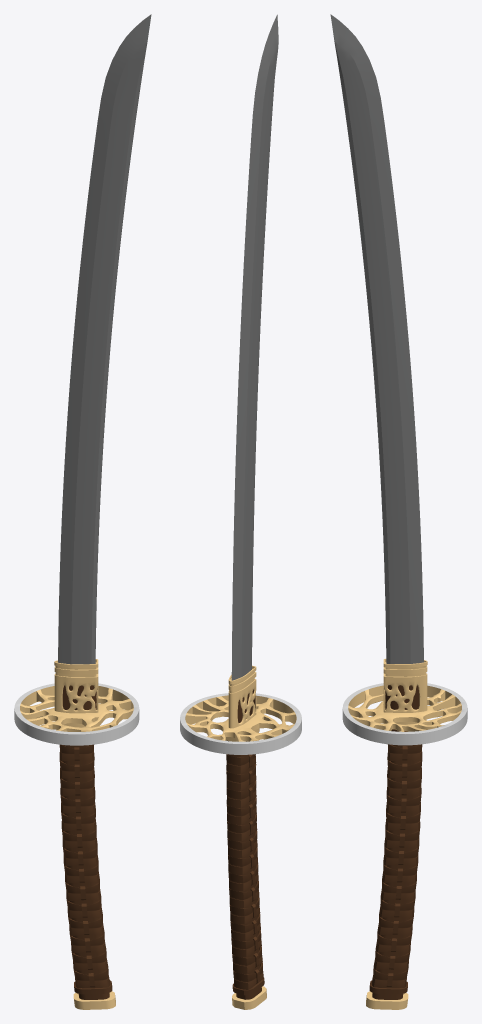
Rendered from chuba.fbx.
3 renders of one model, left to right at view 1: azimuth 90°, elevation 25°; view 2: azimuth 150°, elevation 25°; view 3: azimuth 270°, elevation 25°, orthographic. The views are drawn at different scales.
Visible parts, largest first — view 1: ClinokNew, Plane.002, Circle.003, Plane.new.001, Circle.new; view 2: ClinokNew, Plane.002, Circle.003, Plane.new.001; view 3: ClinokNew, Plane.002, Circle.003, Plane.new.001, Circle.new.
Part boxes in pixels (left/top/right/bottom): ClinokNew: left=58, top=14, right=151, bottom=664; Plane.002: left=59, top=723, right=115, bottom=1009; Circle.003: left=14, top=683, right=139, bottom=745; Plane.new.001: left=54, top=659, right=98, bottom=713; Circle.new: left=62, top=685, right=96, bottom=710; ClinokNew: left=231, top=14, right=278, bottom=680; Plane.002: left=225, top=728, right=266, bottom=1009; Circle.003: left=180, top=693, right=301, bottom=754; Plane.new.001: left=228, top=665, right=256, bottom=728; ClinokNew: left=330, top=14, right=423, bottom=663; Plane.002: left=366, top=719, right=426, bottom=1009; Circle.003: left=342, top=683, right=467, bottom=745; Plane.new.001: left=383, top=658, right=427, bottom=712; Circle.new: left=385, top=685, right=419, bottom=709.
Size of the model in its own units: 200 by 1751 by 220.
